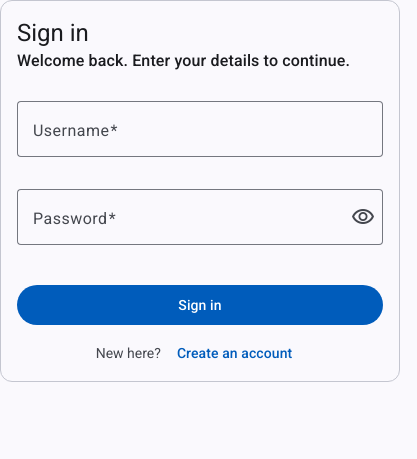
LoginComponent › shows the server message and clears the password on failure
Type "demo" into the field labelled "Username" at x=200, y=129, box [33,117,367,141]
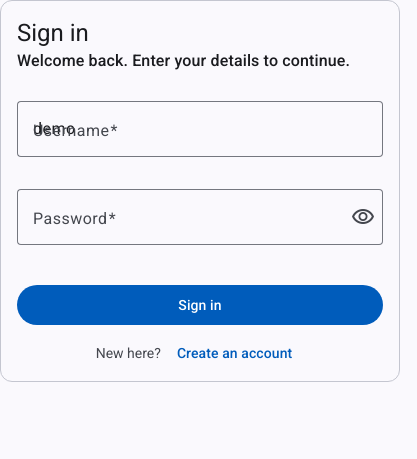
Type "wrong" into the password field labelled "Password" at x=186, y=217, box [33,205,339,229]
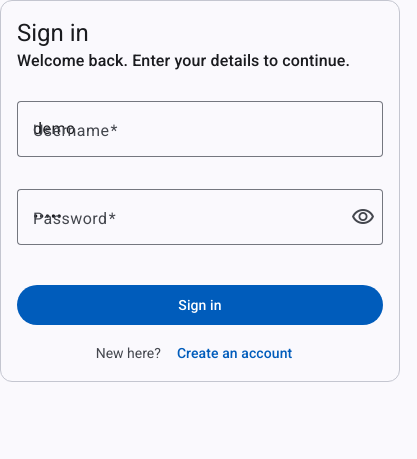
Click the submit button at x=200, y=305, box [17,285,383,325]
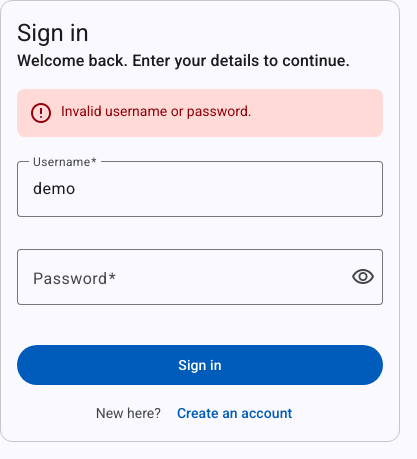
Result: the message "Invalid username or password." is shown at [17,89,383,137]
Result: the password field labelled "Password" is empty at [33,265,339,289]
